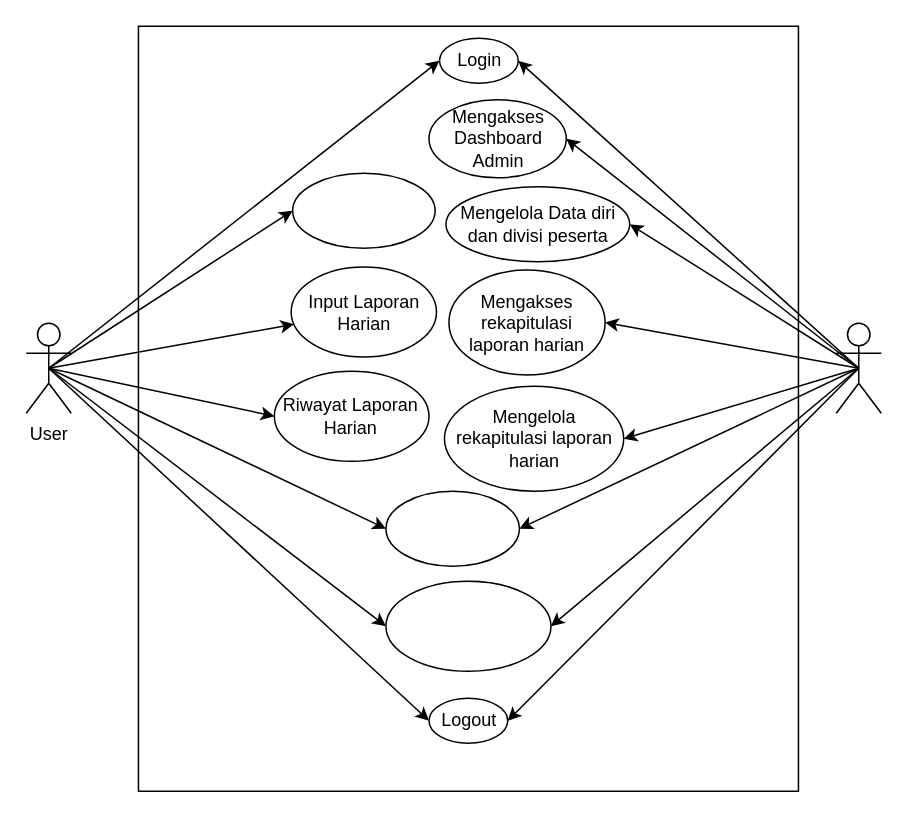
This 911x818 diagram has some shape labels left out. Each missing label, with the box of its shape:
Admin: (835, 322, 881, 413)
Export laporan by pdf/excel: (384, 580, 551, 671)
filter riwayat laporan: (384, 490, 519, 566)
Mengakses Dashboard User: (291, 172, 435, 248)
